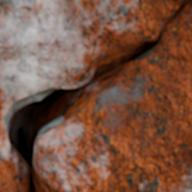broken_brick: (38, 0, 191, 191), (0, 0, 184, 126), (0, 138, 18, 191)
crack: (0, 0, 190, 191)
